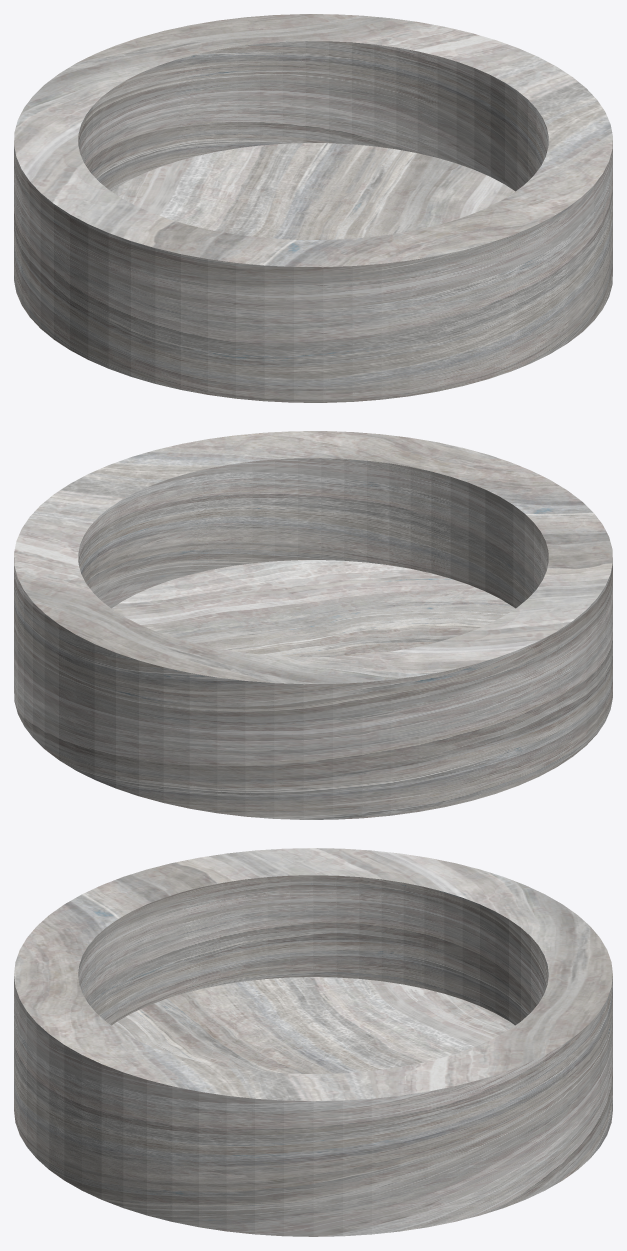
The model's file is bebedero.fbx.
The picture shows the model from 3 angles, top to bottom: view 1: azimuth 30°, elevation 25°; view 2: azimuth 150°, elevation 25°; view 3: azimuth 270°, elevation 25°; orthographic projection.
Visible parts, largest first — view 1: Bebedero; view 2: Bebedero; view 3: Bebedero.
Boxes of the visible parts, x1=… form: Bebedero: x1=14, y1=14, x2=612, y2=402; Bebedero: x1=14, y1=431, x2=612, y2=819; Bebedero: x1=14, y1=848, x2=612, y2=1236.
Bounding box in the file's own units: 280 × 70 × 280.
Materials: 1 (1 with a texture image).
